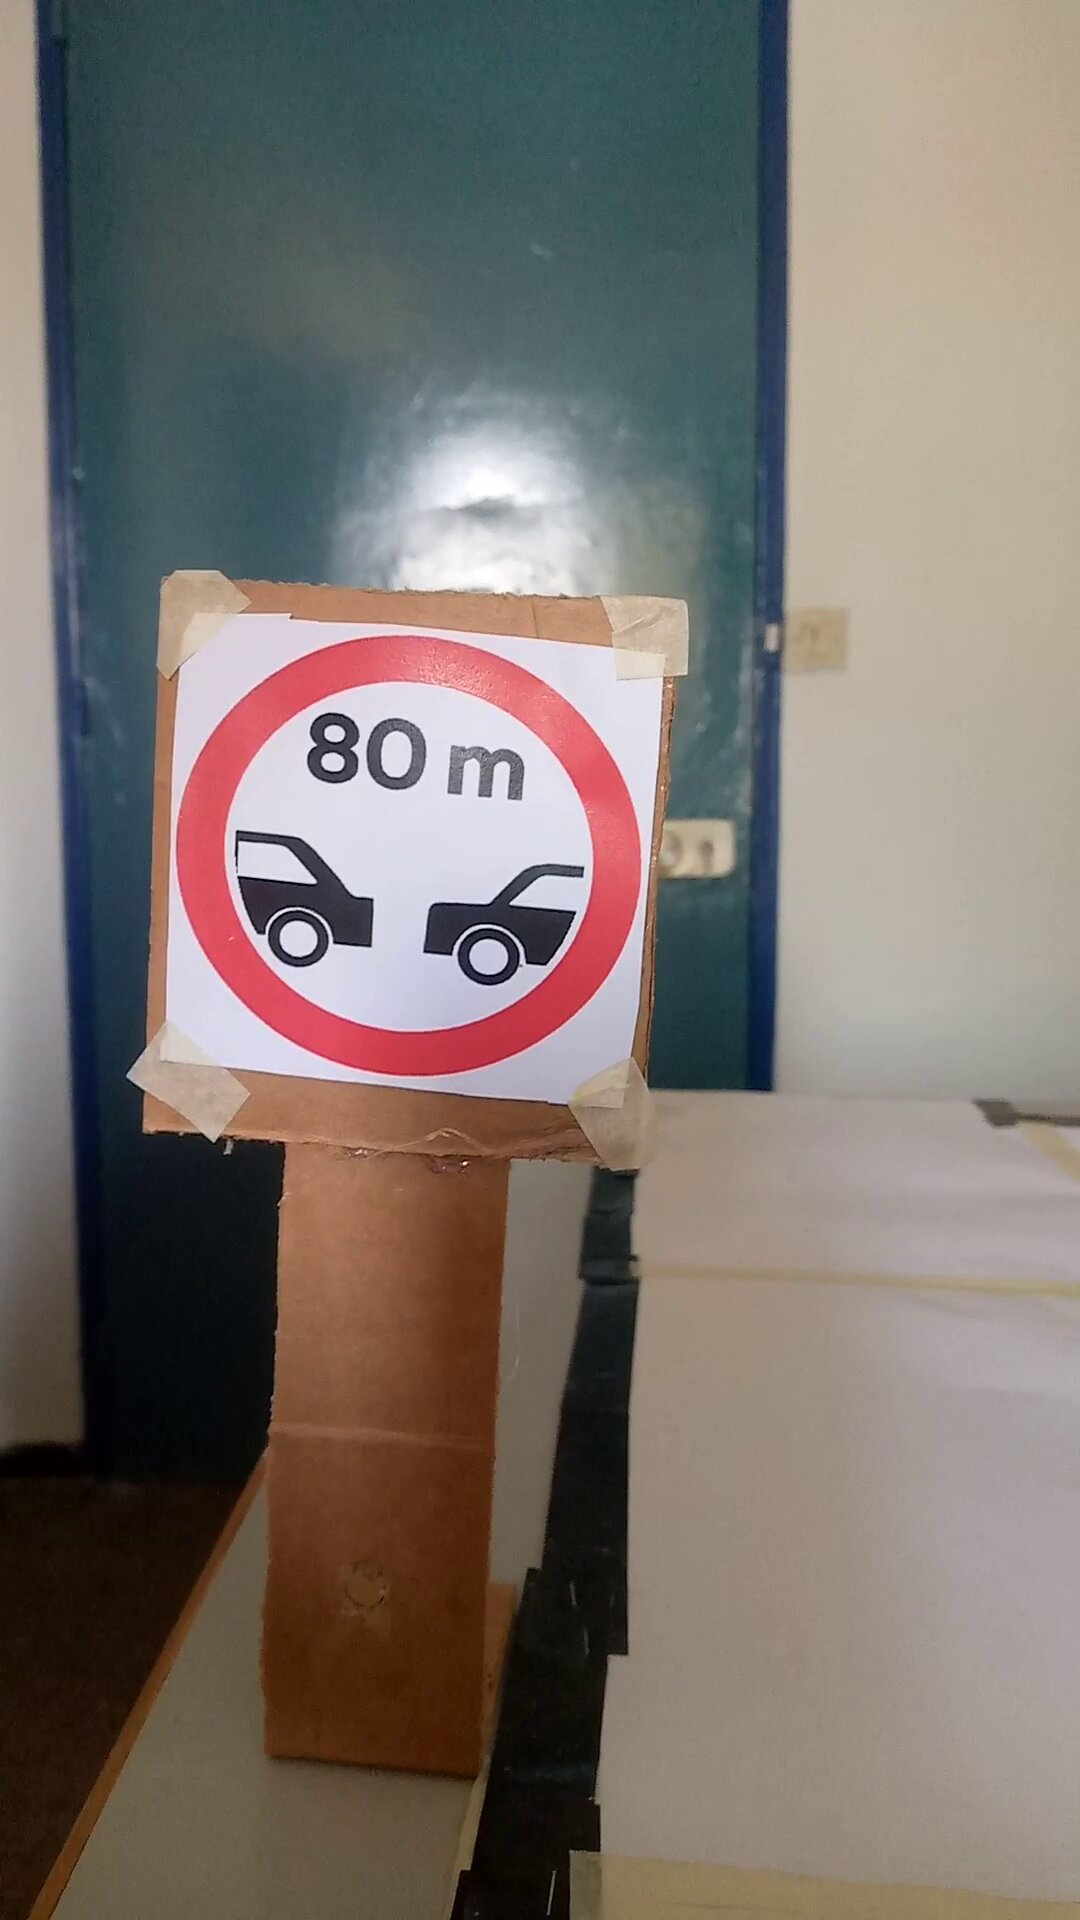panel001: (146, 574, 670, 1189)
